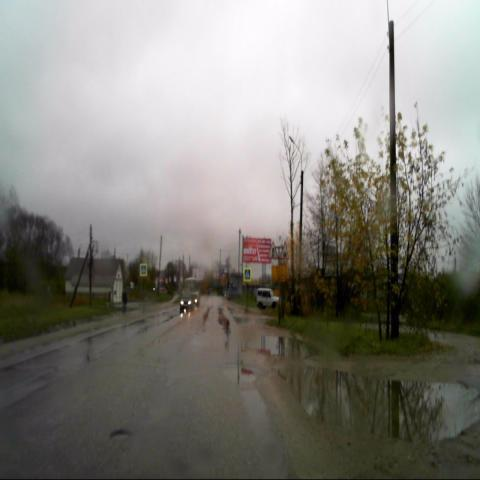1_33: (266, 240, 279, 260)
